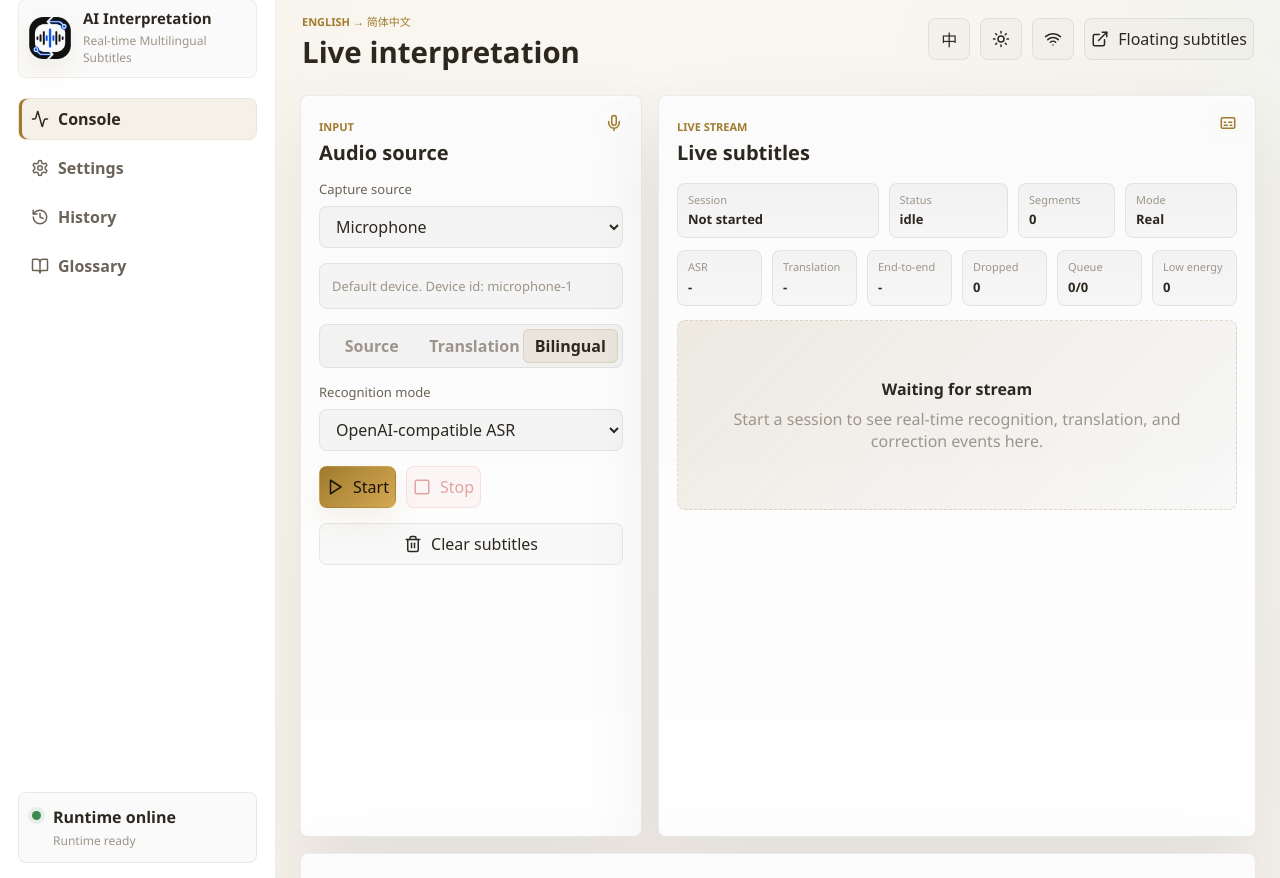
Test: App desktop flows › saves the loaded configuration
Expected: the text "Runtime ready" is shown, [53, 832, 136, 849]
Step 1. Click the button "Settings" → (138, 168), box [18, 146, 257, 188]
(page scrolled)
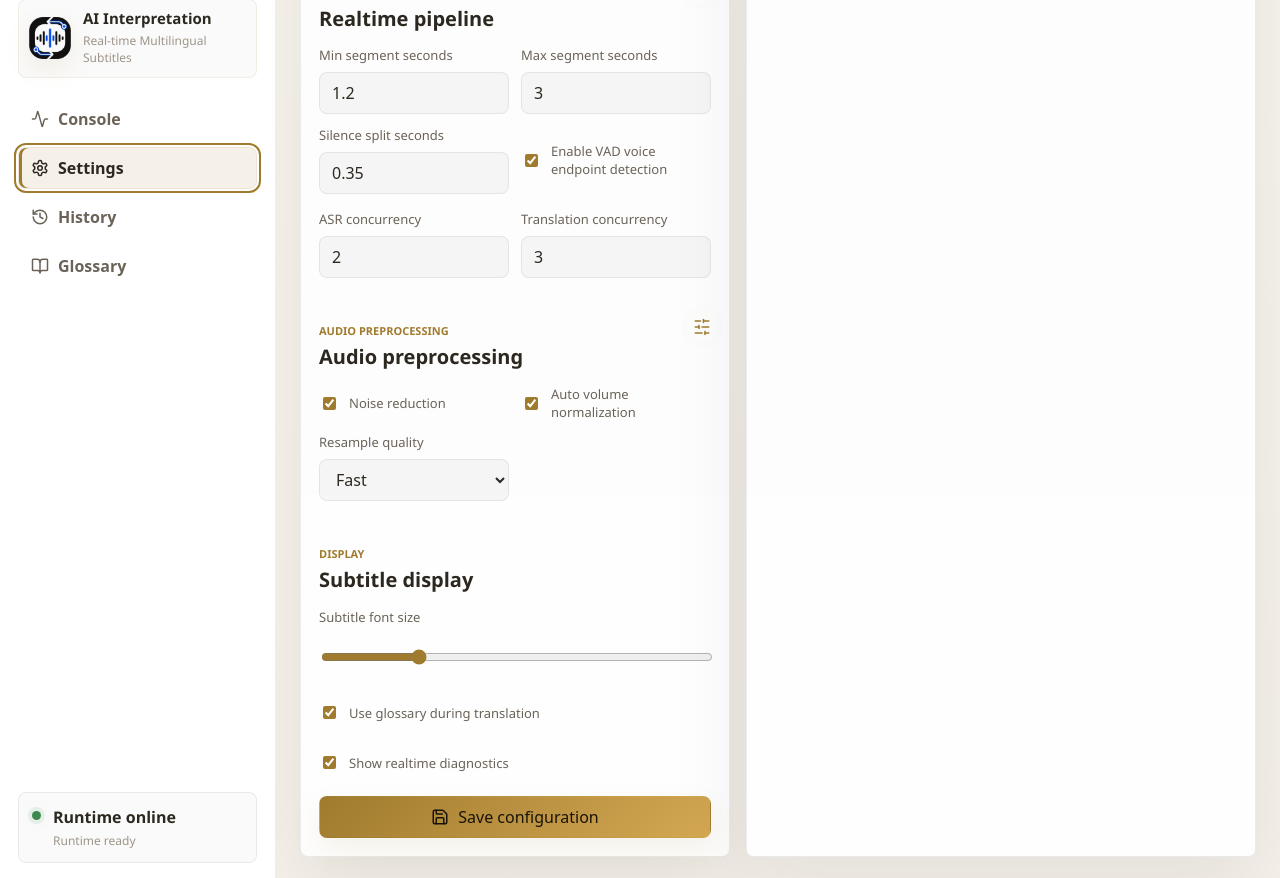
Step 2. Click the button "Save configuration" → (515, 817), box [319, 796, 711, 838]
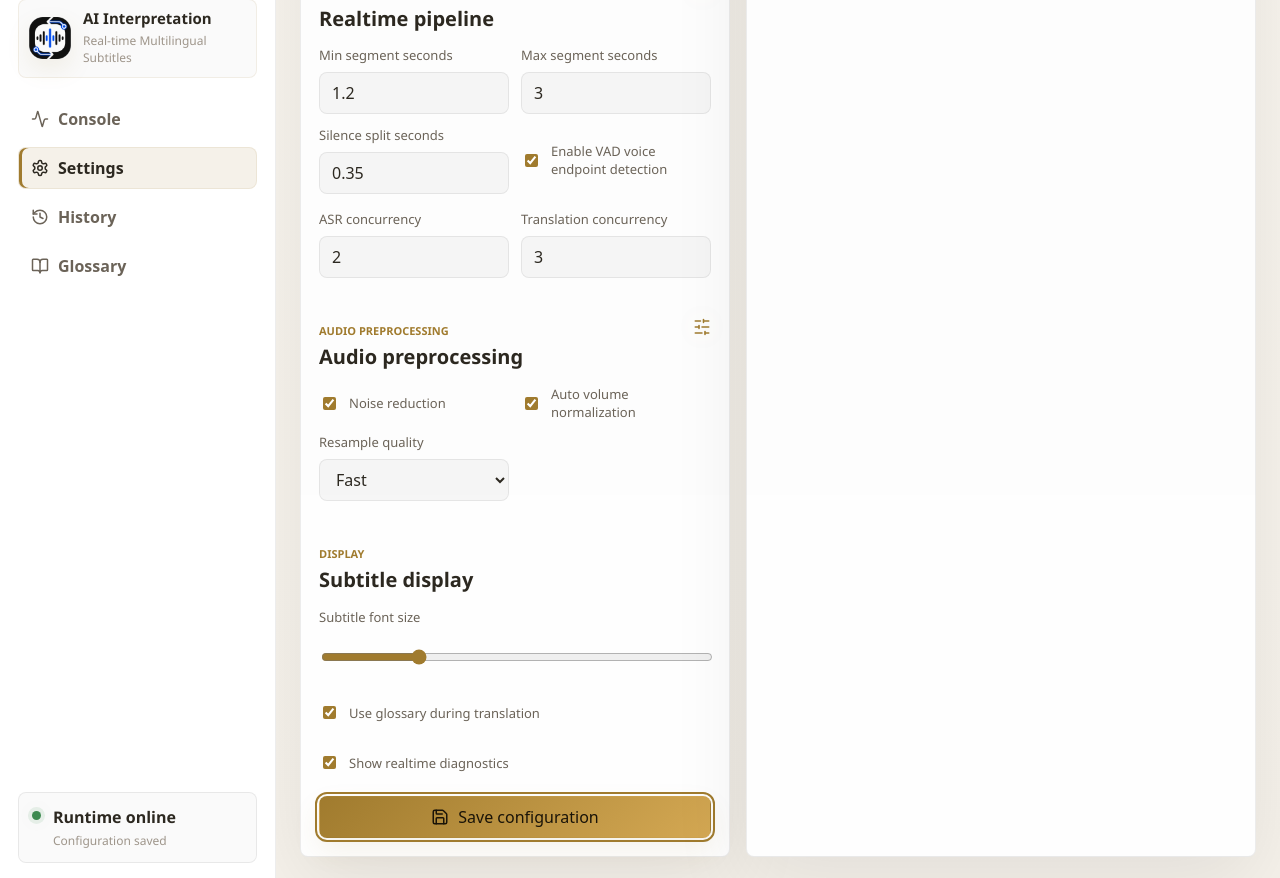
Expected: the text "Configuration saved" is shown, [53, 831, 176, 849]
